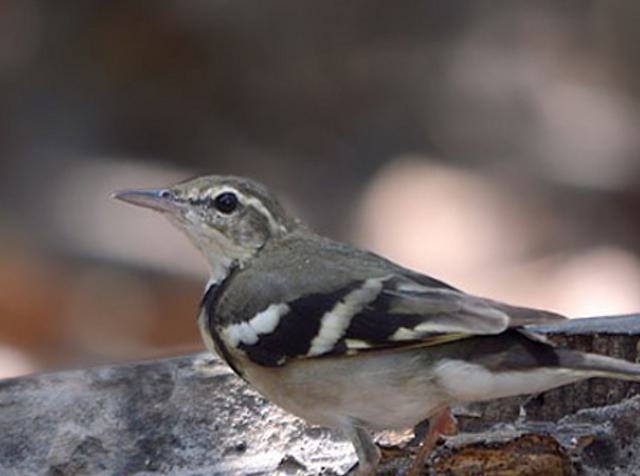wagtail: (141, 128, 562, 440)
